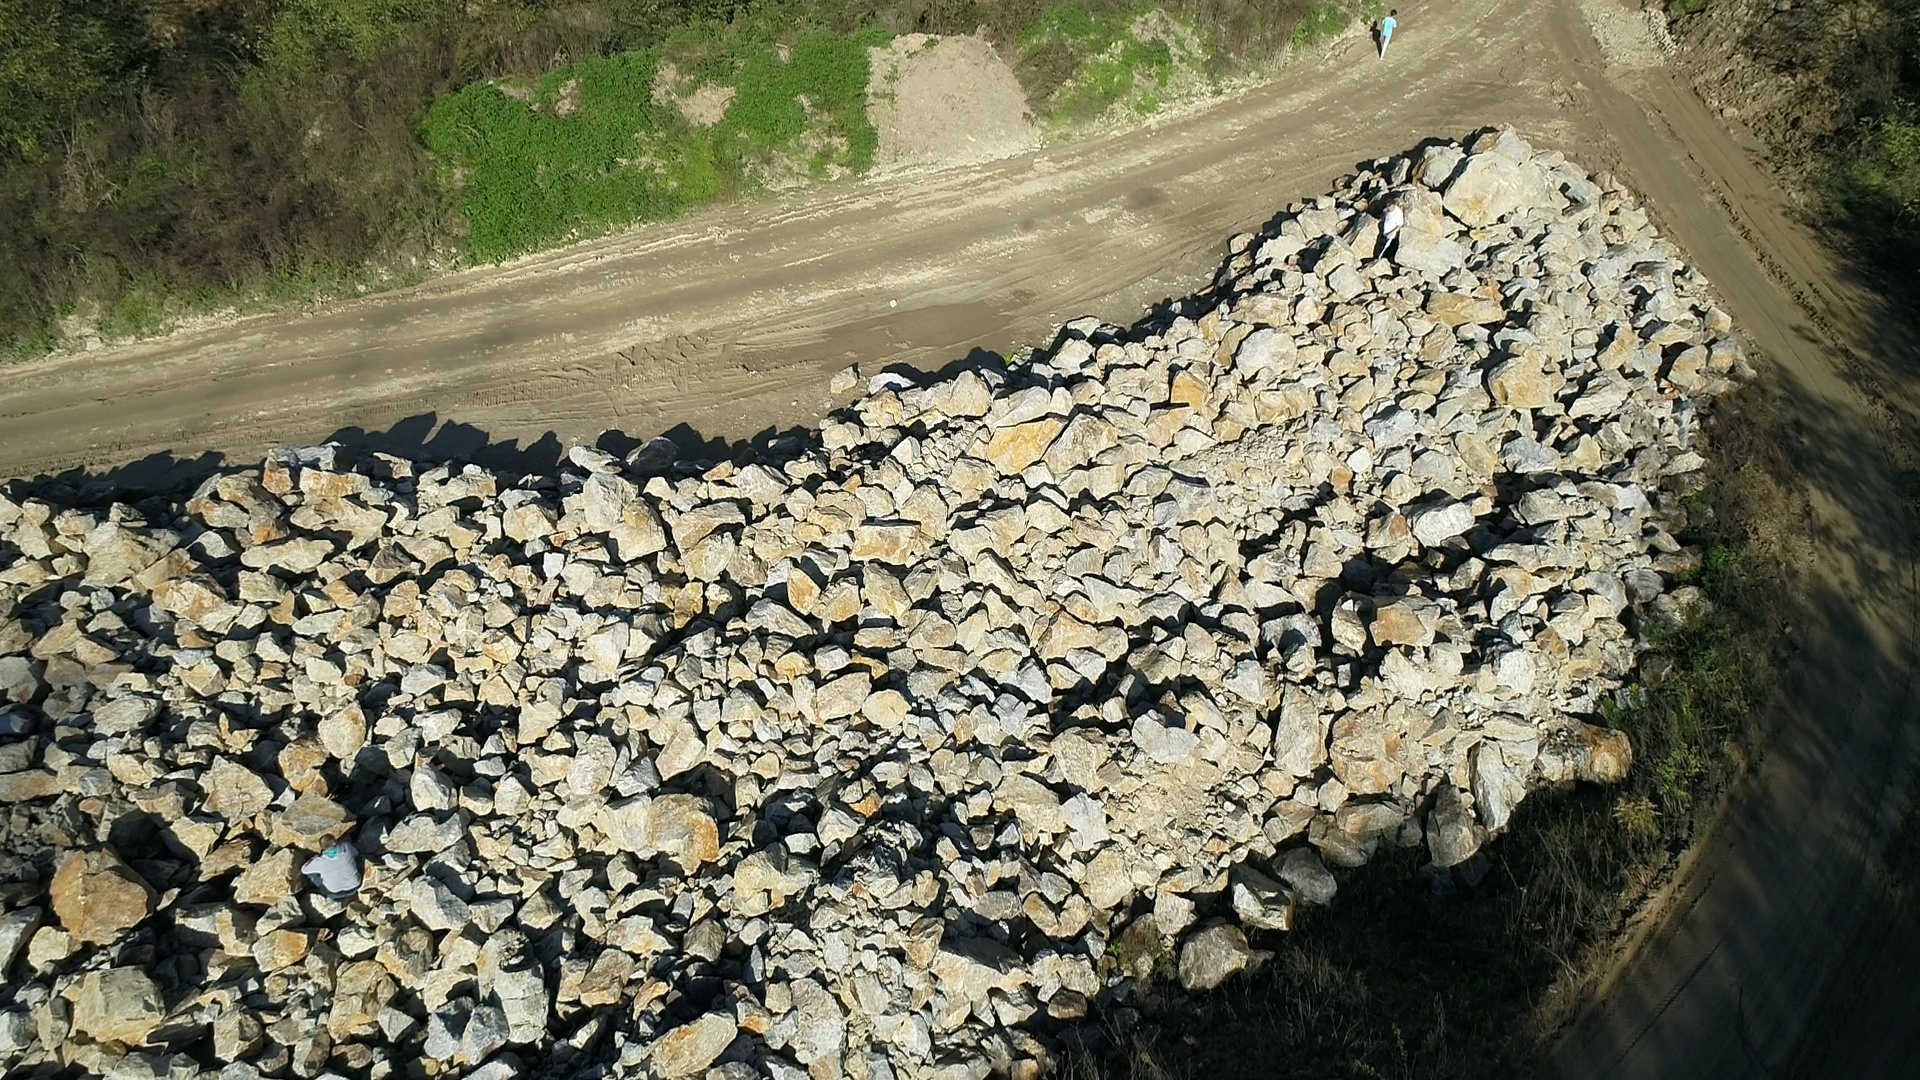person: (301, 832, 364, 899), (1377, 199, 1405, 261), (1378, 8, 1399, 58)
